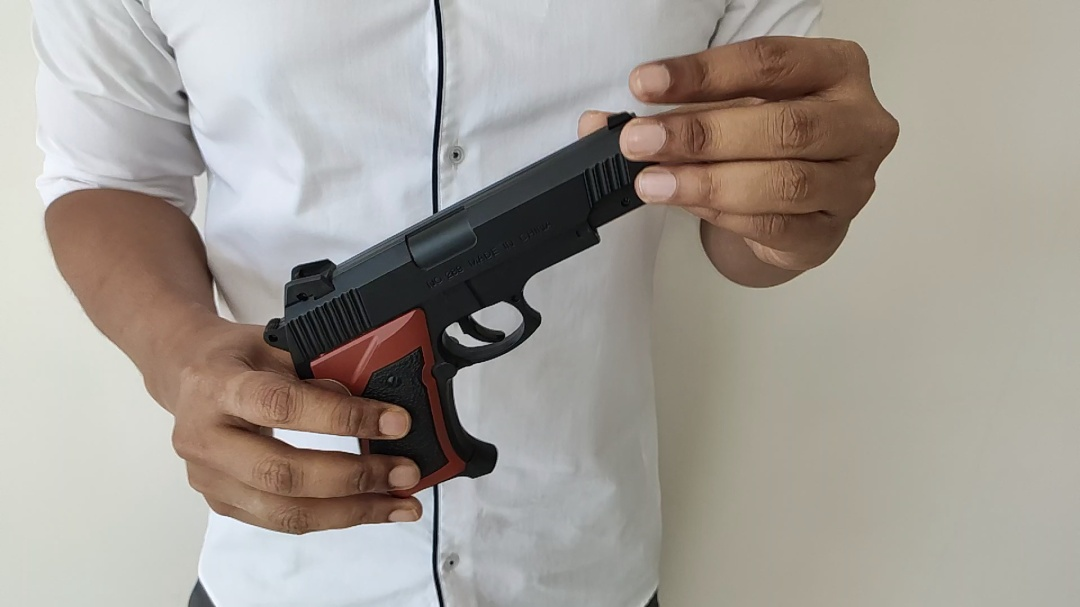gun: (261, 110, 667, 499)
